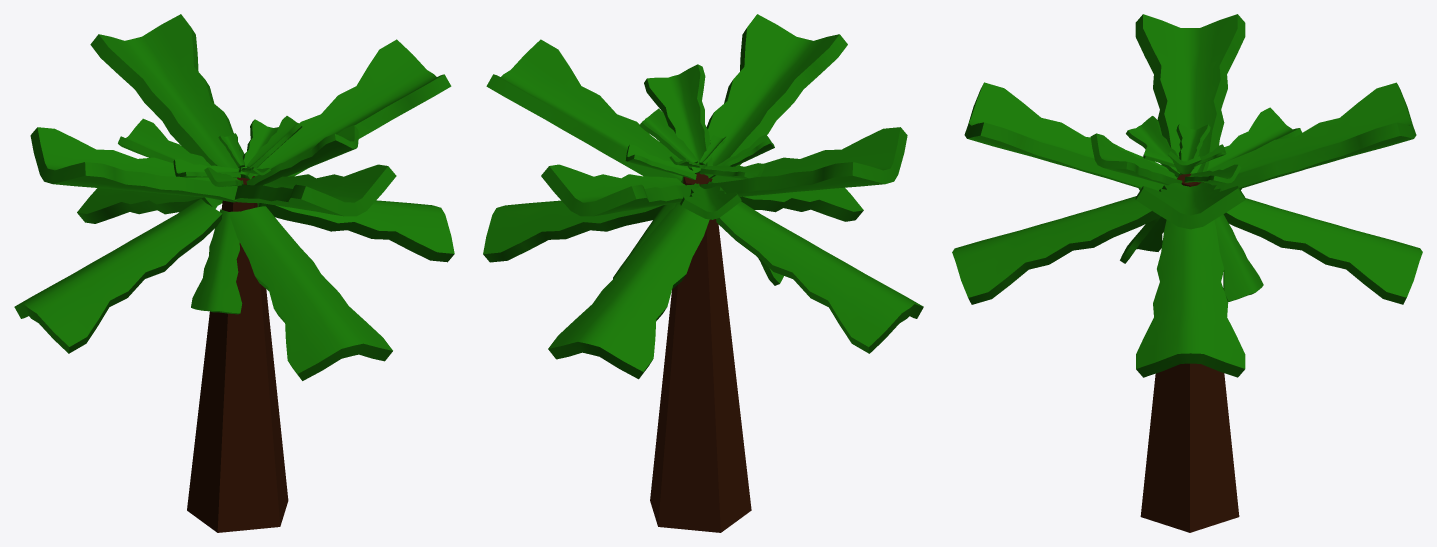
File: Palmeira.FBX
3 views of the same model, side by side, from view 1: azimuth 30°, elevation 25°; view 2: azimuth 150°, elevation 25°; view 3: azimuth 270°, elevation 25° (orthographic).
Visible parts, largest first — view 1: Cone001, Box005, Box007, Box002, Box003, Box004, Box008, Box001, Box013, Box006, Box018, Box017 (+3 smaller); view 2: Cone001, Box006, Box007, Box001, Box003, Box004, Box008, Box002, Box018, Box005, Box017, Box022 (+3 smaller); view 3: Cone001, Box008, Box004, Box005, Box006, Box002, Box001, Box003, Box012, Box018, Box017, Box019 (+3 smaller).
Boxes of the visible parts, bbox=[...] form: Cone001: bbox=[187, 176, 288, 532]; Box005: bbox=[229, 206, 392, 380]; Box007: bbox=[14, 198, 222, 353]; Box002: bbox=[90, 14, 244, 171]; Box003: bbox=[253, 39, 451, 176]; Box004: bbox=[30, 127, 237, 202]; Box008: bbox=[257, 200, 454, 262]; Box001: bbox=[234, 164, 396, 216]; Box013: bbox=[191, 209, 242, 314]; Box006: bbox=[77, 188, 222, 223]; Box018: bbox=[246, 125, 358, 185]; Box017: bbox=[118, 118, 211, 166]; Cone001: bbox=[650, 173, 751, 532]; Box006: bbox=[548, 204, 709, 379]; Box007: bbox=[716, 201, 923, 353]; Box001: bbox=[704, 14, 847, 175]; Box003: bbox=[486, 39, 689, 183]; Box004: bbox=[700, 127, 907, 196]; Box008: bbox=[483, 200, 663, 262]; Box002: bbox=[541, 164, 699, 216]; Box018: bbox=[644, 64, 712, 173]; Box005: bbox=[740, 187, 863, 221]; Box017: bbox=[680, 181, 741, 219]; Box022: bbox=[639, 108, 697, 168]; Cone001: bbox=[1140, 173, 1239, 532]; Box008: bbox=[1136, 220, 1245, 377]; Box004: bbox=[1135, 14, 1245, 172]; Box005: bbox=[952, 196, 1160, 304]; Box006: bbox=[1223, 198, 1422, 304]; Box002: bbox=[1205, 82, 1416, 190]; Box001: bbox=[964, 82, 1178, 190]; Box003: bbox=[1135, 182, 1245, 229]; Box012: bbox=[1214, 214, 1263, 302]; Box018: bbox=[1090, 133, 1182, 185]; Box017: bbox=[1190, 107, 1302, 182]; Box019: bbox=[1126, 116, 1182, 177].
Bounding box in the file's own units: 41.41 × 39.37 × 41.09.
